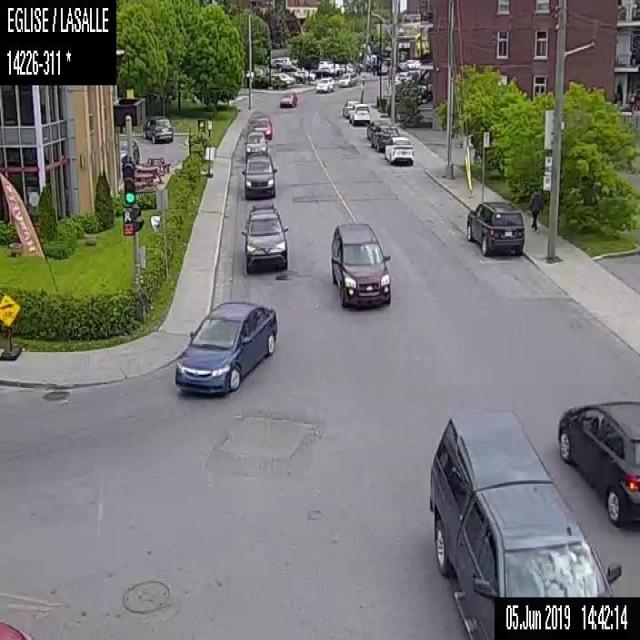pedestrian: (529, 187, 539, 233)
vehicle: (428, 405, 621, 639), (556, 398, 639, 530), (173, 297, 277, 395), (328, 221, 391, 308), (464, 197, 524, 256), (241, 203, 288, 273), (240, 150, 275, 198), (382, 134, 414, 164), (142, 115, 174, 142), (118, 138, 140, 169), (372, 124, 398, 149), (243, 130, 269, 154), (348, 103, 371, 126), (252, 116, 273, 140), (366, 119, 390, 140), (314, 75, 334, 92), (271, 70, 293, 84), (342, 99, 361, 115), (278, 90, 297, 106), (338, 71, 357, 85), (316, 59, 333, 71)
